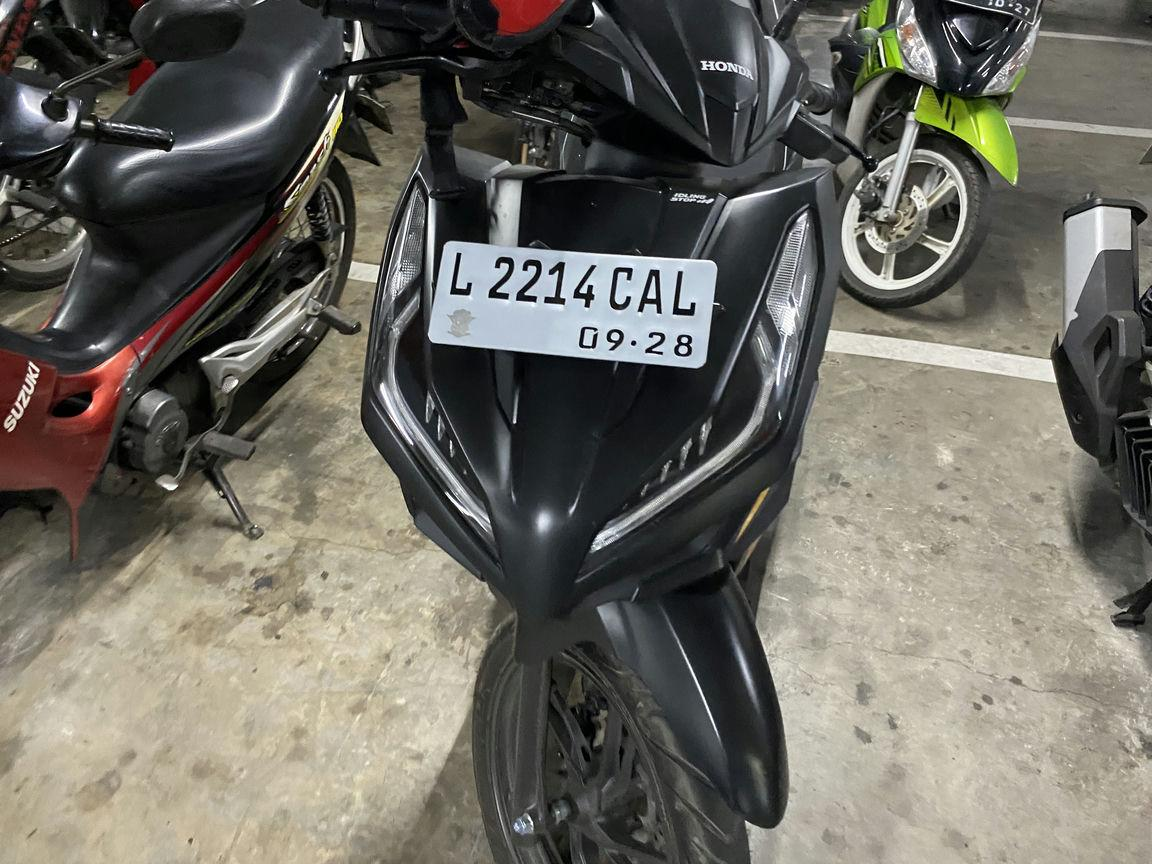plat: (428, 241, 718, 369)
